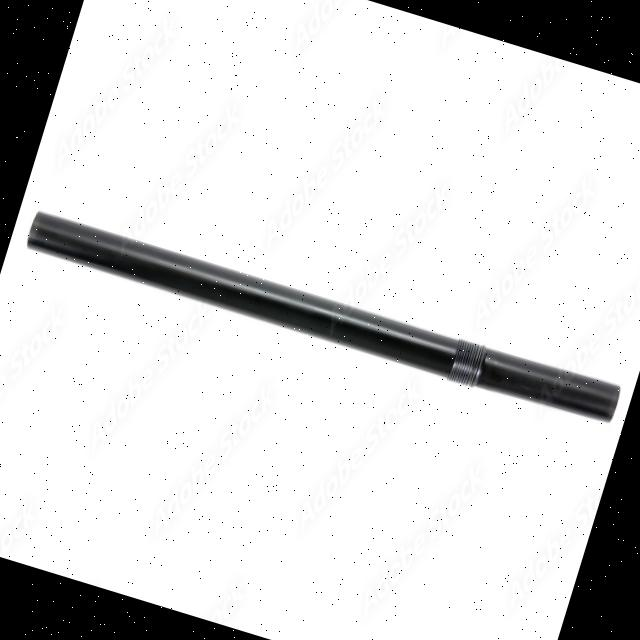plastic: (2, 157, 640, 498)
